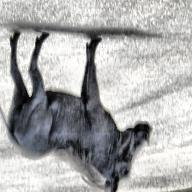boar: (0, 32, 152, 192)
